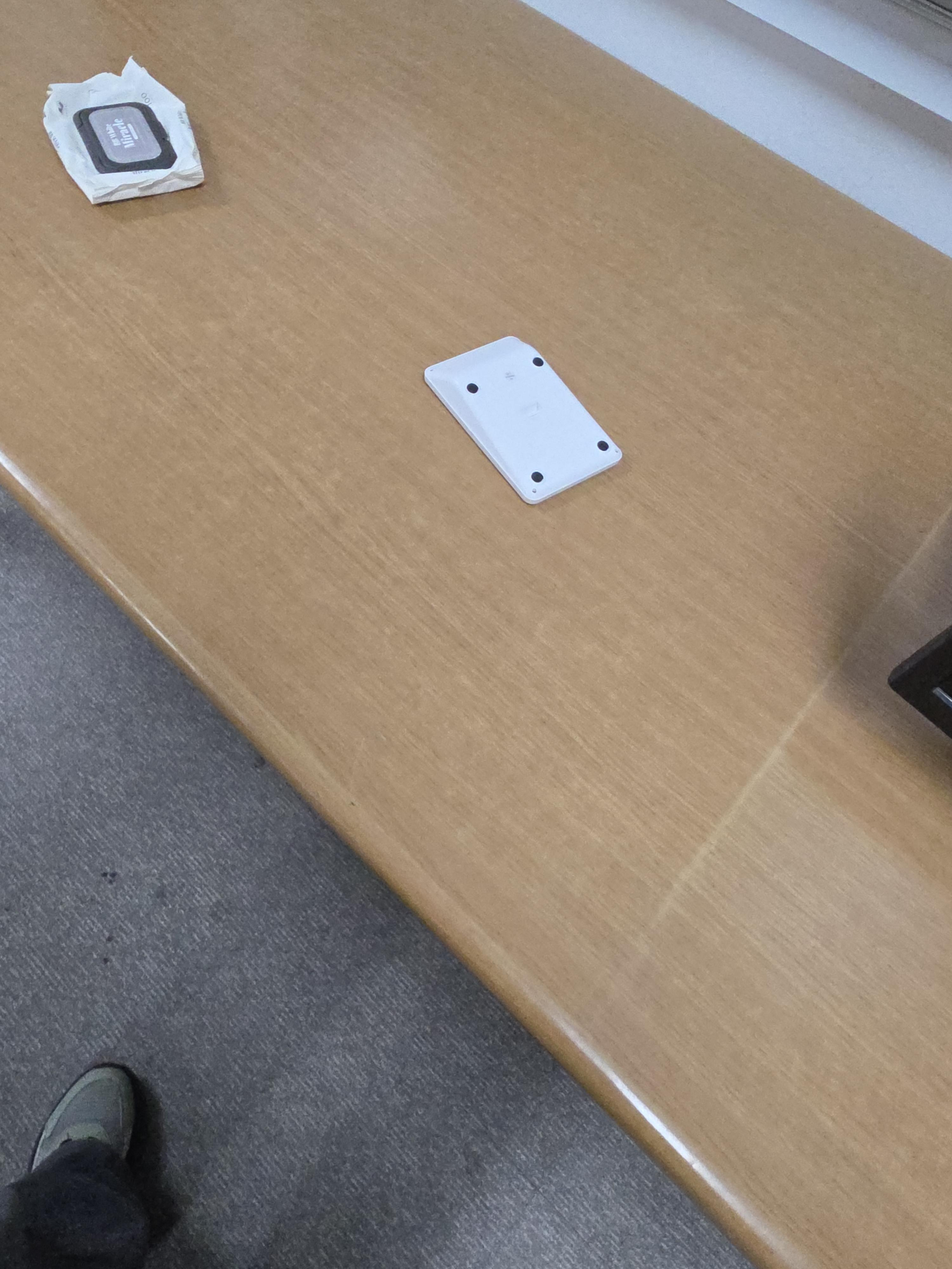calculator: (423, 335, 623, 505)
tissue: (43, 55, 206, 206)
